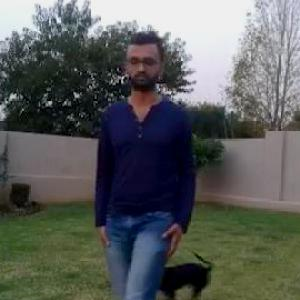follow: (92, 35, 194, 299)
